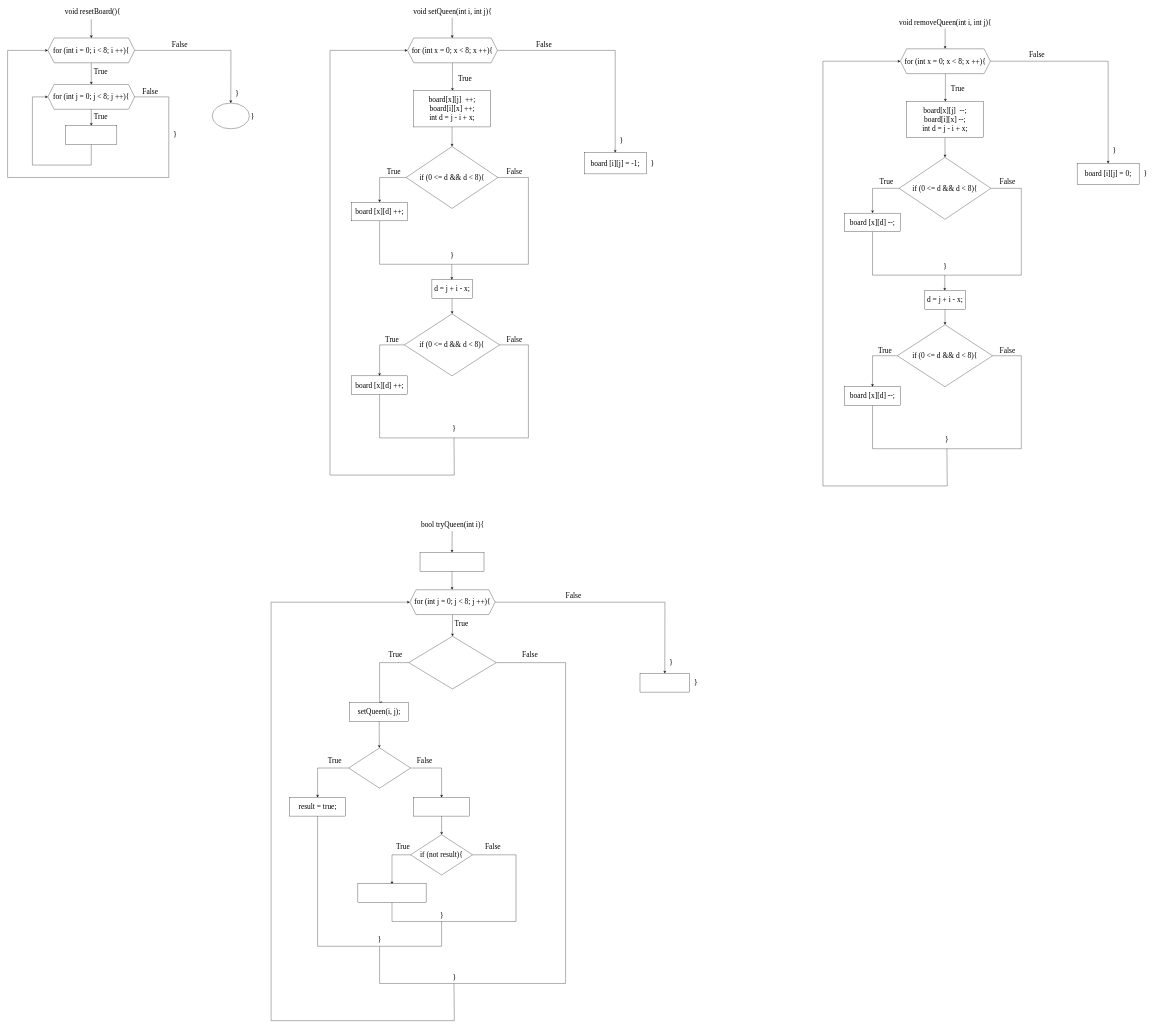
The diagram is 1157 pixels wide and 1029 high, and some of its shapes have lost their labels. The centre of each missing label's shape, as x and y in pixels:
board[i][j] = 0;: pixel 91 134
bool result = false;: pixel 452 561
if (board[i][j] == 0){: pixel 452 662
if (i == 7){: pixel 379 768
removeQueen(i, j);: pixel 392 892
return result;: pixel 665 682
tryQueen(i + 1);: pixel 441 806
конец: pixel 230 116
